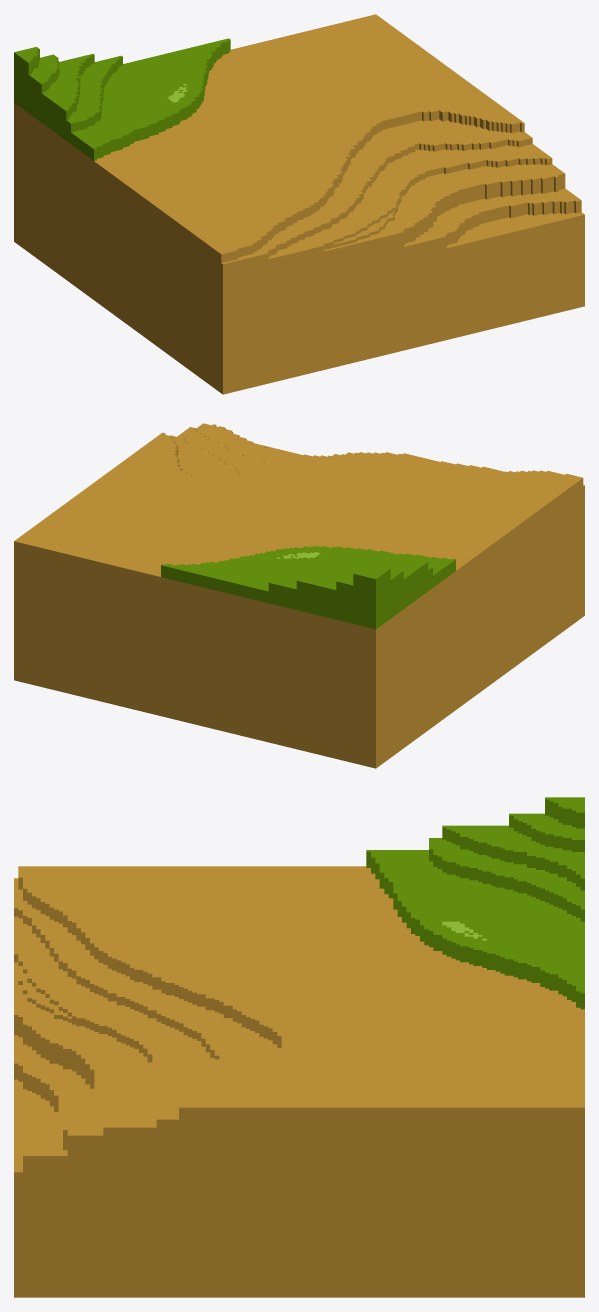
3 renders of one model, top to bottom at view 1: azimuth 30°, elevation 25°; view 2: azimuth 150°, elevation 25°; view 3: azimuth 270°, elevation 25°, orthographic. The views are drawn at different scales.
Parts seen in each view (by area): view 1: 13C; view 2: 13C; view 3: 13C.
Part boxes in pixels (<box>): 13C: <box>14,14,584,394</box>; 13C: <box>14,423,584,768</box>; 13C: <box>14,797,584,1297</box>.
Size of the model in its own units: 12.8 by 6.4 by 12.8.
Materials: 1 (1 with a texture image).
